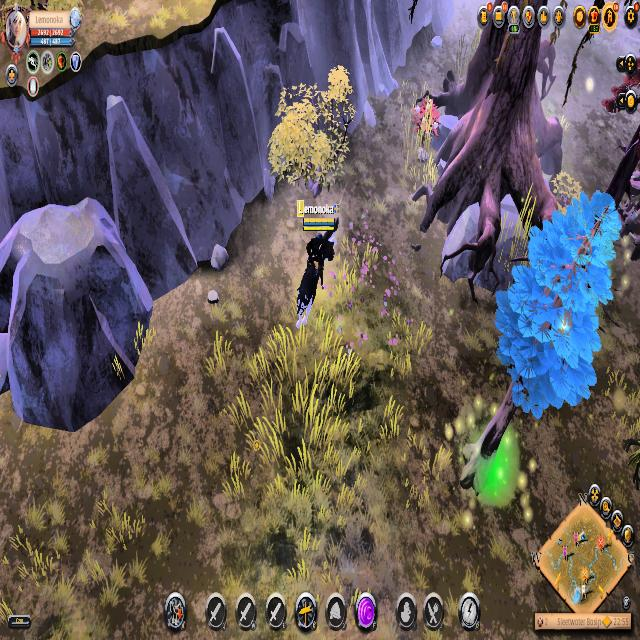wood tier 4: (496, 183, 618, 417)
